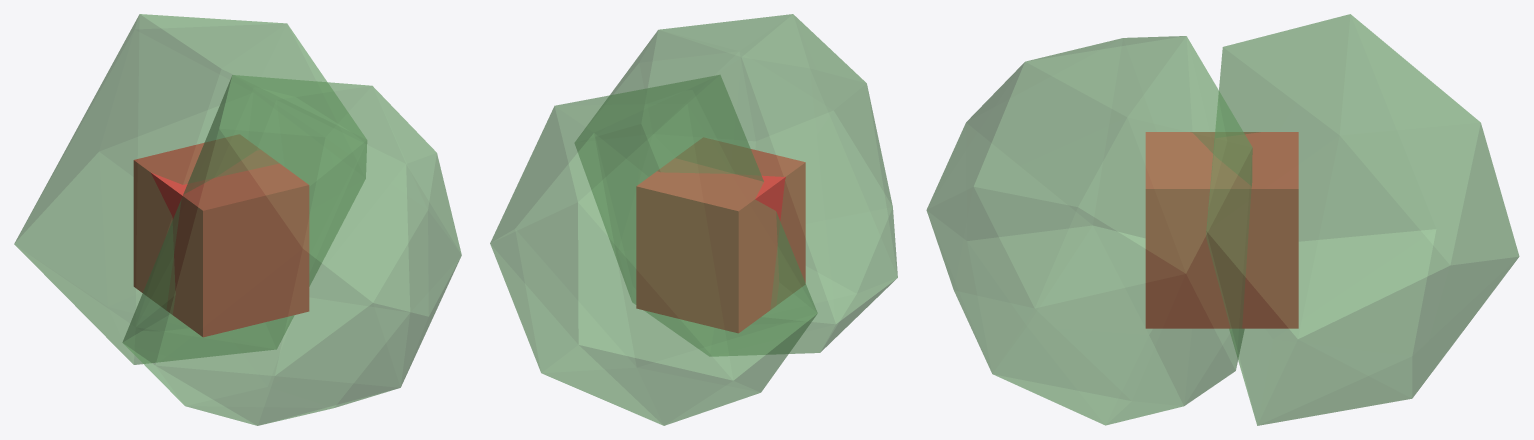
The model's file is hrp2_trunk_torso_view.dae.
3 renders of one model, left to right at view 1: azimuth 30°, elevation 25°; view 2: azimuth 150°, elevation 25°; view 3: azimuth 270°, elevation 25°, orthographic. The views are drawn at different scales.
Visible parts, largest first — view 1: Hrp2_Rarm_Rom, Hrp2_Larm_Rom, Hrp2_Trunk_Torso; view 2: Hrp2_Larm_Rom, Hrp2_Rarm_Rom, Hrp2_Trunk_Torso; view 3: Hrp2_Rarm_Rom, Hrp2_Larm_Rom, Hrp2_Trunk_Torso.
Boxes of the visible parts, left/top/right/bottom form: Hrp2_Rarm_Rom: left=122, top=75, right=461, bottom=425; Hrp2_Larm_Rom: left=14, top=14, right=366, bottom=364; Hrp2_Trunk_Torso: left=133, top=135, right=309, bottom=337; Hrp2_Larm_Rom: left=490, top=75, right=817, bottom=425; Hrp2_Rarm_Rom: left=575, top=14, right=897, bottom=356; Hrp2_Trunk_Torso: left=636, top=138, right=805, bottom=333; Hrp2_Rarm_Rom: left=926, top=36, right=1252, bottom=425; Hrp2_Larm_Rom: left=1206, top=14, right=1519, bottom=425; Hrp2_Trunk_Torso: left=1145, top=132, right=1298, bottom=328.
Bounding box in the file's own units: 1.08 × 1.66 × 1.13.
